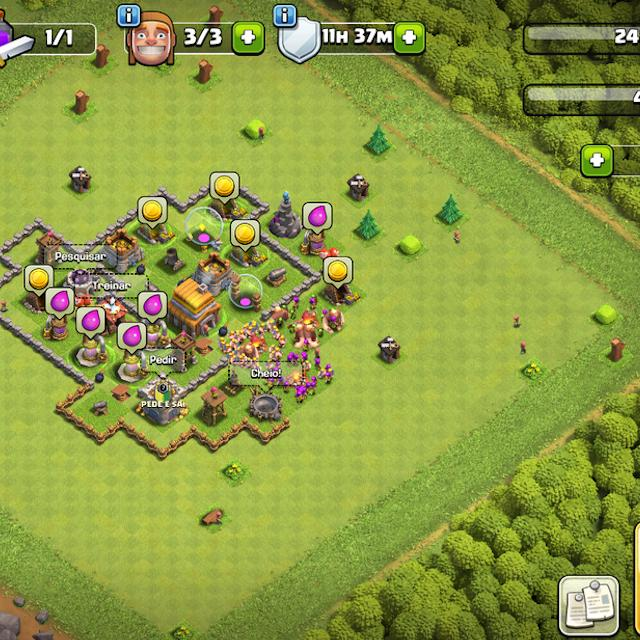Elixir: (76, 306, 105, 341), (118, 322, 147, 356), (136, 290, 166, 322), (304, 203, 332, 235), (46, 288, 72, 319)
coin: (138, 195, 168, 228), (24, 265, 54, 297), (232, 219, 260, 252), (325, 256, 353, 289), (211, 172, 239, 203)
